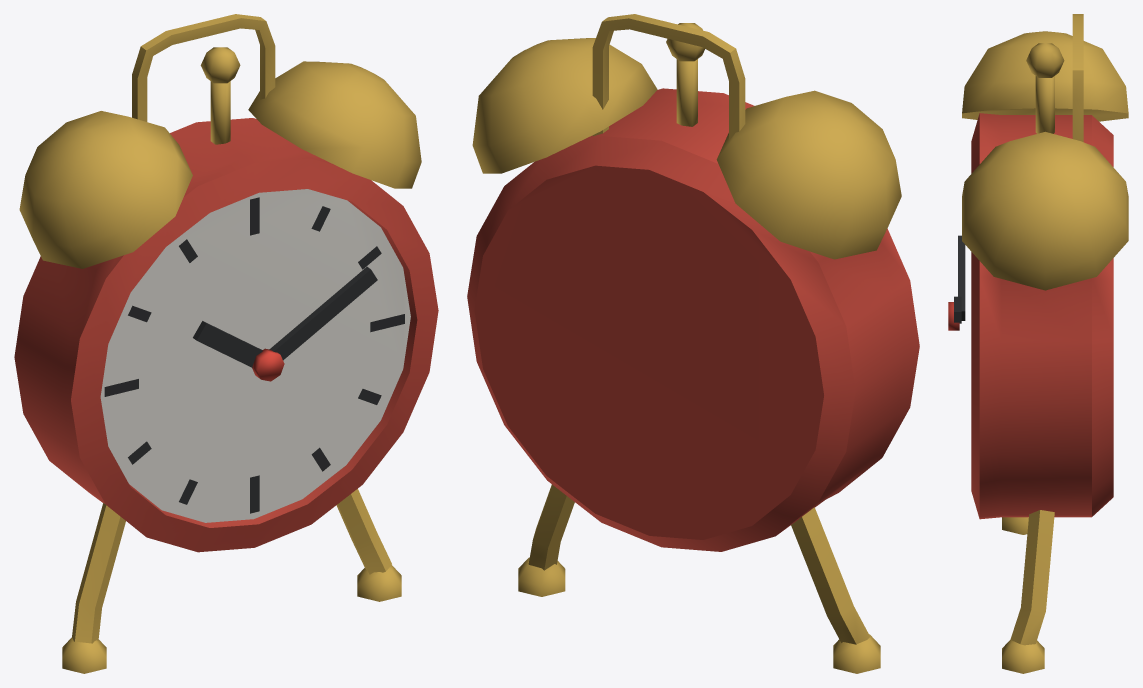
The model's file is tableClock.glb.
The picture shows the model from 3 angles, left to right: view 1: azimuth 30°, elevation 25°; view 2: azimuth 150°, elevation 25°; view 3: azimuth 270°, elevation 25°; orthographic projection. The views are drawn at different scales.
Parts seen in each view (by area): view 1: clock, minute_hand, hour_hand; view 2: clock; view 3: clock, hour_hand.
Part boxes in pixels (x1,y1,x2,y2): clock: (14,14,438,673); minute_hand: (269,266,377,360); hour_hand: (193,321,262,367); clock: (467,14,919,673); clock: (948,14,1128,673); hour_hand: (958,235,965,320).
Bounding box in the file's own units: 0.1099 × 0.1627 × 0.0474.
